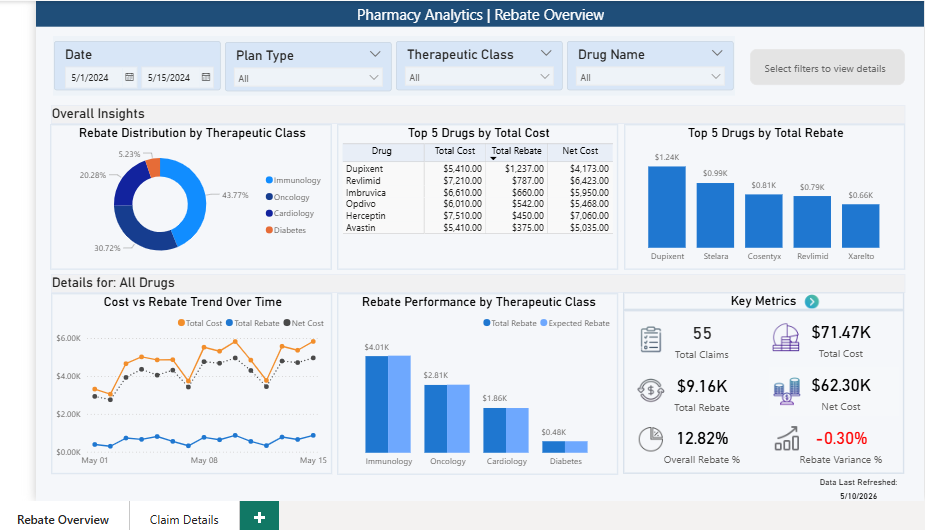

The dashboard page shown, as its layout file describes it:
{"tool":"powerbi","page":{"name":"Rebate Overview","canvas":[1280,720],"ordinal":0},"visuals":[{"type":"shape","box":[0,0,1280.2,128.2],"z":0},{"type":"card","title":"Data Last Refreshed:","fields":{"Values":["Min(RefreshDate.RefreshDate)"]},"box":[996.5,645.1,256.3,72],"z":1000},{"type":"clusteredBarChart","title":"Top Rebate-Generating Drugs","fields":{"Category":["Drugs.Drug_Name"],"Y":["Measures Table.Total Rebate"]},"box":[599,144,385.9,570.2],"z":2000},{"type":"tableEx","title":"Top Drugs by Cost","fields":{"Values":["Drugs.Drug_Name","Claims.Total Cost","Claims.Total Rebate","Claims.Net Cost"]},"box":[18.7,457.9,568.8,256.3],"z":3000},{"type":"donutChart","title":"Rebate Distribution by Therapeutic Class","fields":{"Category":["Drugs.Therapeutic_Class"],"Y":["Measures Table.Total Rebate"]},"box":[18.7,144,568.8,303.8],"z":4000},{"type":"group","id":"g1","title":"Group 1","box":[996.5,144.8,256.3,83.5],"z":5000},{"type":"group","id":"g2","title":"Group 2","box":[995,227.1,257.9,86.4],"z":6000},{"type":"group","id":"g3","title":"Group 3","box":[996.5,310.6,256.3,86.4],"z":7000},{"type":"group","id":"g4","title":"Group 4","box":[996.5,395.4,256,86],"z":8000},{"type":"group","id":"g5","title":"Group 5","box":[996.5,479.1,256.3,86.4],"z":9000},{"type":"slicer","fields":{"Values":["Drugs.Drug_Name"]},"box":[1069.9,20.2,180,57.6],"z":10000},{"type":"slicer","fields":{"Values":["Drugs.Therapeutic_Class"]},"box":[915.8,21.6,162.7,59],"z":11000},{"type":"slicer","fields":{"Values":["Plans.Plan_Type"]},"box":[764.6,23,161.3,60.5],"z":12000},{"type":"slicer","title":"Date","fields":{"Values":["Claims.Date"]},"box":[535.7,23,233.3,60.5],"z":13000},{"type":"card","title":"Rebate Variance  %","fields":{"Values":["Measures List.Rebate Variance %"]},"box":[996.5,562.6,256,86],"z":13000,"group":"g14"},{"type":"image","box":[2.9,85,47.5,41.8],"z":14000},{"type":"card","title":"Overall Rebate %","fields":{"Values":["Measures List.Rebate %"]},"box":[996.5,479.1,256.3,86.4],"z":14000,"group":"g13"},{"type":"card","title":"Net Cost","fields":{"Values":["Claims.Net Cost"]},"box":[996.5,395.4,256,86],"z":15000,"group":"g12"},{"type":"group","id":"g6","title":"Group 6","box":[996.5,562.6,256,86],"z":15000},{"type":"group","id":"g7","title":"Group 13","box":[85,83.6,153,40.4],"z":16000},{"type":"card","title":"Total Rebate","fields":{"Values":["Claims.Total Rebate"]},"box":[996.5,310.6,256.3,86.4],"z":16000,"group":"g11"},{"type":"actionButton","box":[85,83.6,152.8,38.9],"z":17000,"group":"g7"},{"type":"group","id":"g8","title":"Group 14","box":[248.2,83.7,212.1,39],"z":17000},{"type":"card","title":"Total Cost","fields":{"Values":["Claims.Total Cost"]},"box":[996.6,227.1,256.3,86.4],"z":17000,"group":"g10"},{"type":"actionButton","box":[85,85,153,39],"z":18000,"group":"g7"},{"type":"actionButton","box":[248.2,83.7,212.1,39],"z":19000,"group":"g8"},{"type":"card","title":"Total Claims","fields":{"Values":["Claims.Total Claims"]},"box":[996.5,144.8,256.3,83.5],"z":19000,"group":"g9"},{"type":"actionButton","box":[248.2,85.1,212.1,36.1],"z":19500,"group":"g8"},{"type":"group","id":"g9","title":"Group 7","box":[996.5,144.8,256.3,83.5],"z":23001,"group":"g1"},{"type":"group","id":"g10","title":"Group 8","box":[995,227.1,257.9,86.4],"z":23001,"group":"g2"},{"type":"group","id":"g11","title":"Group 9","box":[996.5,310.6,256.3,86.4],"z":23001,"group":"g3"},{"type":"group","id":"g12","title":"Group 10","box":[996.5,395.4,256,86],"z":23001,"group":"g4"},{"type":"group","id":"g13","title":"Group 11","box":[996.5,479.1,256.3,86.4],"z":23001,"group":"g5"},{"type":"group","id":"g14","title":"Group 12","box":[996.5,562.6,256,86],"z":23001,"group":"g6"},{"type":"image","box":[995,250.1,61.9,56.2],"z":24000,"group":"g10"},{"type":"image","box":[1010.9,499.3,47.5,49],"z":25000,"group":"g13"},{"type":"image","box":[1010.9,326.4,46.1,53.3],"z":26000,"group":"g11"},{"type":"image","box":[1013.8,409.8,49,50.4],"z":27000,"group":"g12"},{"type":"image","box":[1012.3,162.9,47.5,51.5],"z":28000,"group":"g9"},{"type":"image","box":[1013.7,582.2,54.7,41.8],"z":29000,"group":"g14"}]}

Visuals, with their boxes in screenshot pixels (x1, y1, x2, y2), scaled from the page's 1280x720 canvas onto the 925x530 screenshot:
shape: left=0, top=0, right=924, bottom=94
"Data Last Refreshed:" card: left=720, top=475, right=905, bottom=528
"Top Rebate-Generating Drugs" clusteredBarChart: left=433, top=106, right=712, bottom=526
"Top Drugs by Cost" tableEx: left=14, top=337, right=425, bottom=526
"Rebate Distribution by Therapeutic Class" donutChart: left=14, top=106, right=425, bottom=330
"Group 1" group: left=720, top=107, right=905, bottom=168
"Group 2" group: left=719, top=167, right=905, bottom=231
"Group 3" group: left=720, top=229, right=905, bottom=292
"Group 4" group: left=720, top=291, right=905, bottom=354
"Group 5" group: left=720, top=353, right=905, bottom=416
slicer - Drugs.Drug_Name: left=773, top=15, right=903, bottom=57
slicer - Drugs.Therapeutic_Class: left=662, top=16, right=779, bottom=59
slicer - Plans.Plan_Type: left=553, top=17, right=669, bottom=61
"Date" slicer: left=387, top=17, right=556, bottom=61
"Rebate Variance  %" card: left=720, top=414, right=905, bottom=477
image: left=2, top=63, right=36, bottom=93
"Overall Rebate %" card: left=720, top=353, right=905, bottom=416
"Net Cost" card: left=720, top=291, right=905, bottom=354
"Group 6" group: left=720, top=414, right=905, bottom=477
"Group 13" group: left=61, top=62, right=172, bottom=91
"Total Rebate" card: left=720, top=229, right=905, bottom=292
actionButton: left=61, top=62, right=172, bottom=90
"Group 14" group: left=179, top=62, right=333, bottom=90
"Total Cost" card: left=720, top=167, right=905, bottom=231
actionButton: left=61, top=63, right=172, bottom=91
actionButton: left=179, top=62, right=333, bottom=90
"Total Claims" card: left=720, top=107, right=905, bottom=168
actionButton: left=179, top=63, right=333, bottom=89
"Group 7" group: left=720, top=107, right=905, bottom=168
"Group 8" group: left=719, top=167, right=905, bottom=231
"Group 9" group: left=720, top=229, right=905, bottom=292
"Group 10" group: left=720, top=291, right=905, bottom=354
"Group 11" group: left=720, top=353, right=905, bottom=416
"Group 12" group: left=720, top=414, right=905, bottom=477
image: left=719, top=184, right=764, bottom=225
image: left=731, top=368, right=765, bottom=404
image: left=731, top=240, right=764, bottom=280
image: left=733, top=302, right=768, bottom=339
image: left=732, top=120, right=766, bottom=158
image: left=733, top=429, right=772, bottom=459
